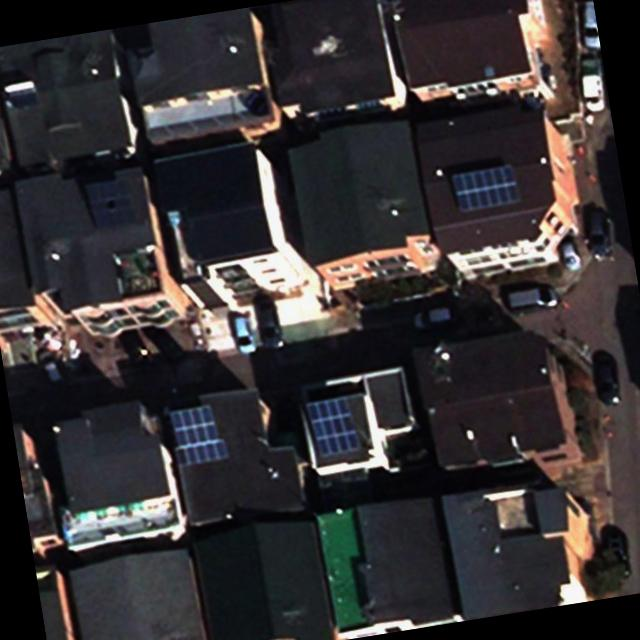solar: (162, 401, 231, 470), (300, 393, 362, 462), (446, 159, 523, 214), (81, 175, 138, 231)
